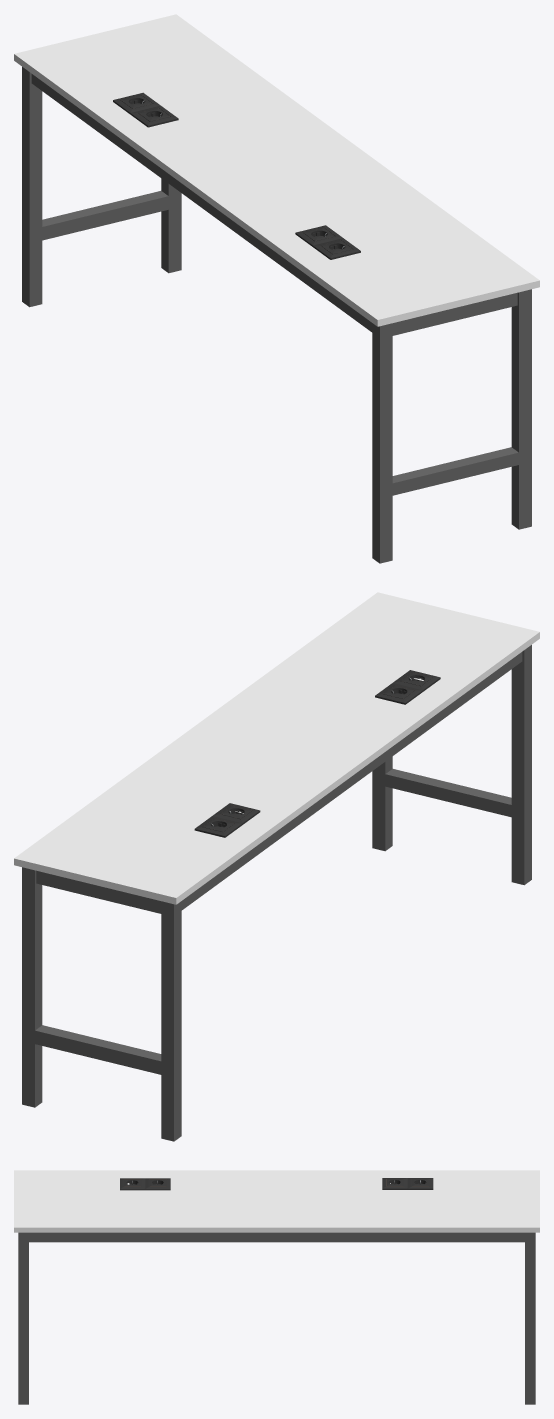
File: mesa2.obj
The picture shows the model from 3 angles, top to bottom: view 1: azimuth 30°, elevation 25°; view 2: azimuth 150°, elevation 25°; view 3: azimuth 270°, elevation 25°; orthographic projection. The views are drawn at different scales.
Parts seen in each view (by area): view 1: Mesh5 Model; view 2: Mesh5 Model; view 3: Mesh5 Model, Mesh3 Group5 Group4 Model, Mesh4 Group6 Group4 Model, Mesh1 Group2 Group1 Model, Mesh2 Group3 Group1 Model.
Part boxes in pixels (<box>): Mesh5 Model: <box>14,14,539,563</box>; Mesh5 Model: <box>14,592,539,1141</box>; Mesh5 Model: <box>14,1170,539,1404</box>; Mesh3 Group5 Group4 Model: <box>145,1178,170,1190</box>; Mesh4 Group6 Group4 Model: <box>120,1178,145,1190</box>; Mesh1 Group2 Group1 Model: <box>407,1178,433,1189</box>; Mesh2 Group3 Group1 Model: <box>382,1178,407,1189</box>.
Size of the model in its own units: 0.502 by 0.7395 by 1.95.
5 materials, 1 textured.
